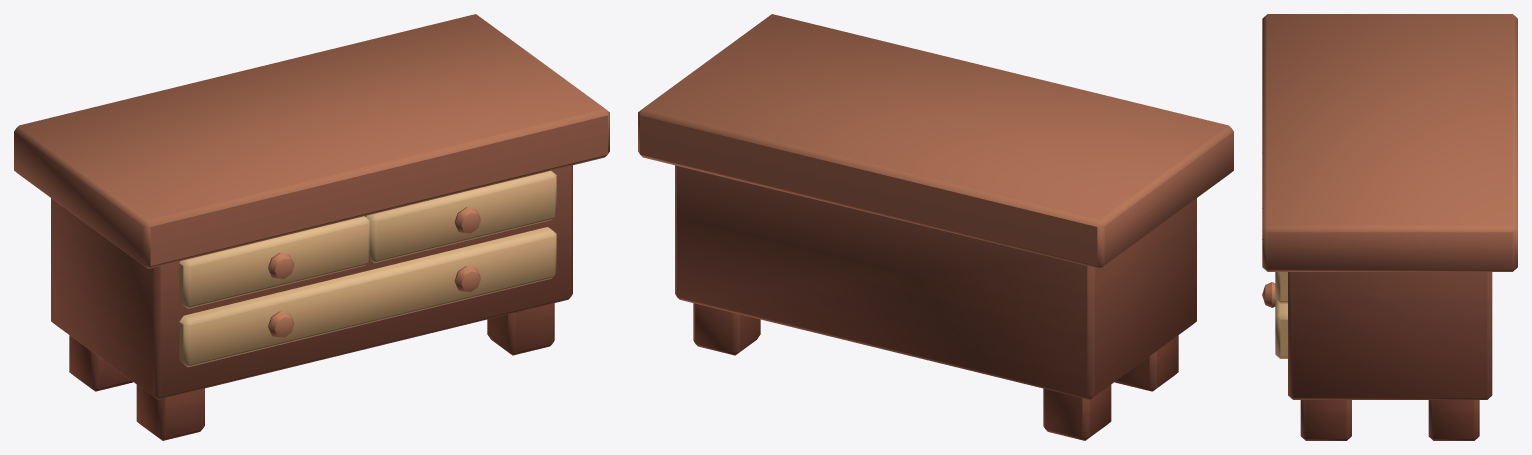
File: cabinet_medium.glb
The picture shows the model from 3 angles, left to right: view 1: azimuth 30°, elevation 25°; view 2: azimuth 150°, elevation 25°; view 3: azimuth 270°, elevation 25°; orthographic projection. The views are drawn at different scales.
Parts seen in each view (by area): view 1: cabinet_medium; view 2: cabinet_medium; view 3: cabinet_medium.
Boxes of the visible parts, left/top/right/bottom form: cabinet_medium: left=14, top=14, right=609, bottom=440; cabinet_medium: left=638, top=14, right=1233, bottom=440; cabinet_medium: left=1262, top=14, right=1517, bottom=440.
Bounding box in the file's own units: 2 × 1 × 1.
1 material, 1 textured.
